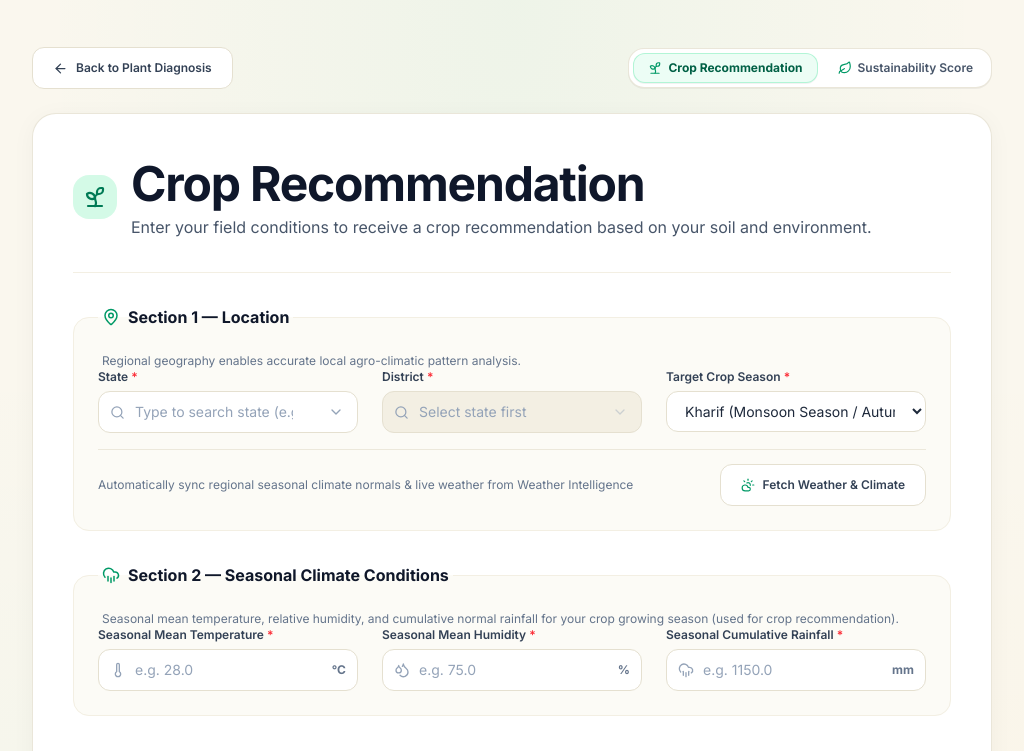
Test: Crop Recommendation Form UI — Step 3 Fields and Validation › validates temperature range (-10°C to 60°C)
# Below range
Step 1. Type "-15" into the number field labelled "Seasonal Mean Temperature *" → (228, 670), box [98,649,358,691]
(page scrolled)
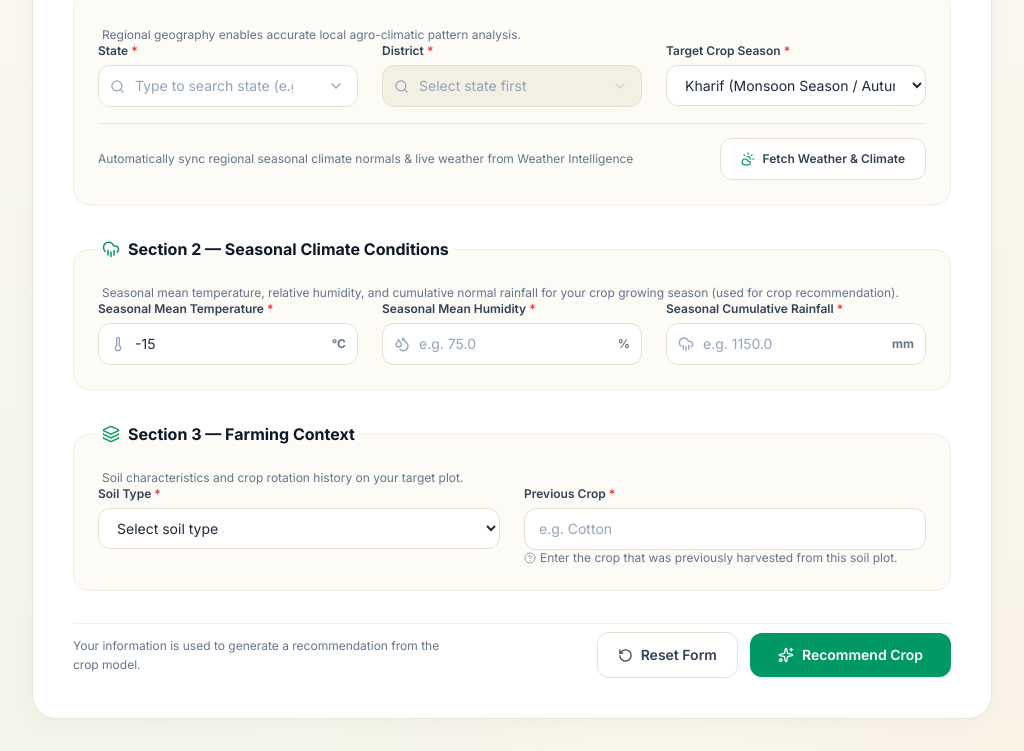
Step 2. Click the button "Recommend Crop" → (850, 655), box [750,633,951,677]
(page scrolled)
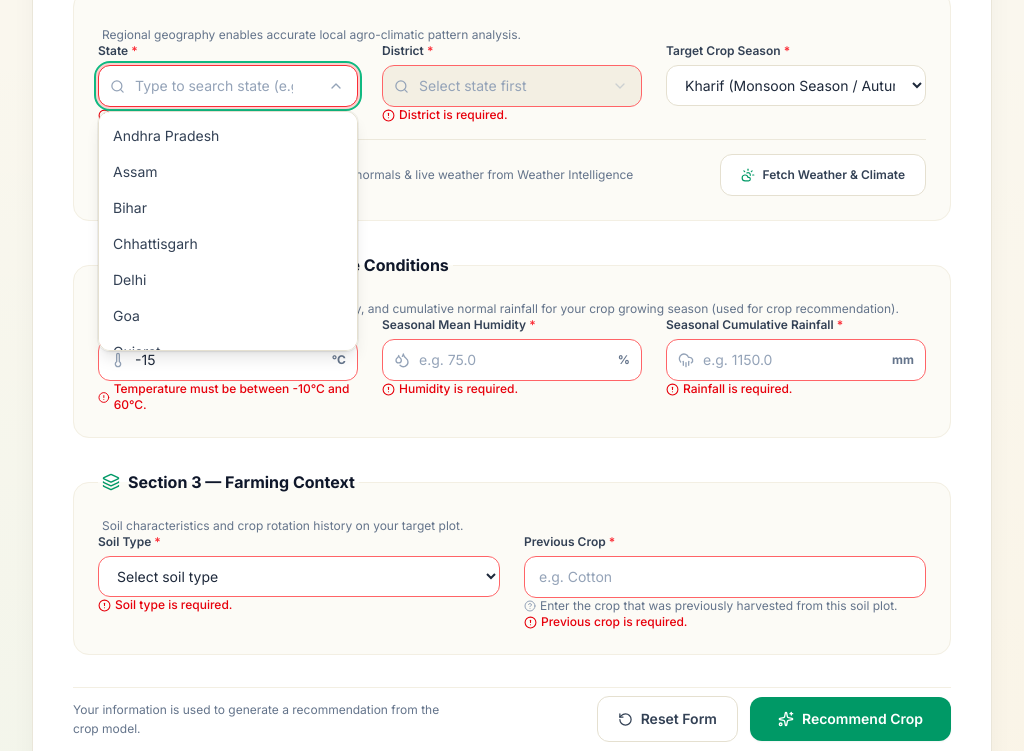
Now the text "Temperature must be between -10°C and 60°C." is shown, box [114,381,358,413]
# Above range
Step 3. Replace the text in the number field labelled "Seasonal Mean Temperature *" with "75" → (228, 360), box [98,339,358,381]
(page scrolled)
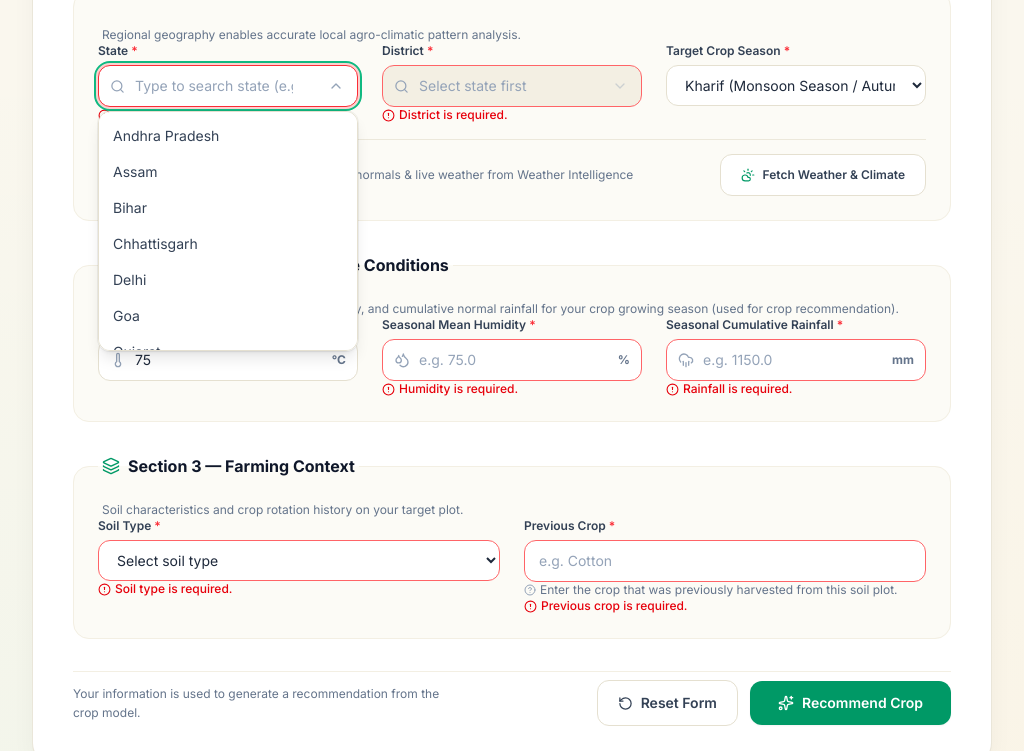
Step 4. Click the button "Recommend Crop" → (850, 703), box [750,681,951,725]
(page scrolled)
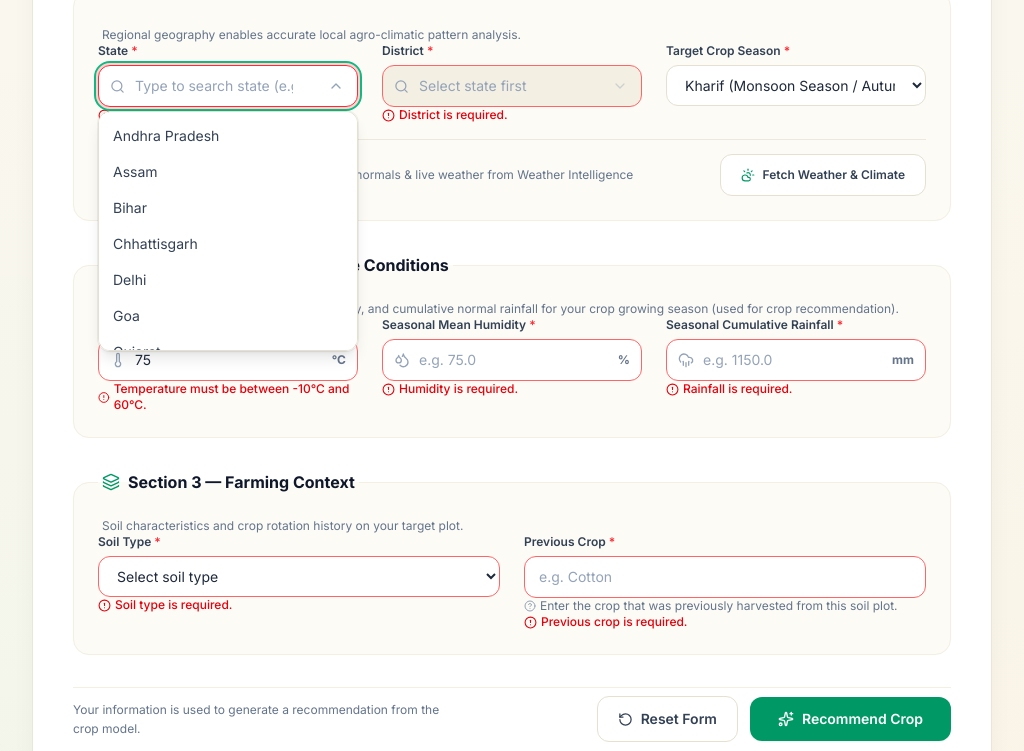
Now the text "Temperature must be between -10°C and 60°C." is shown, box [114,381,358,413]
